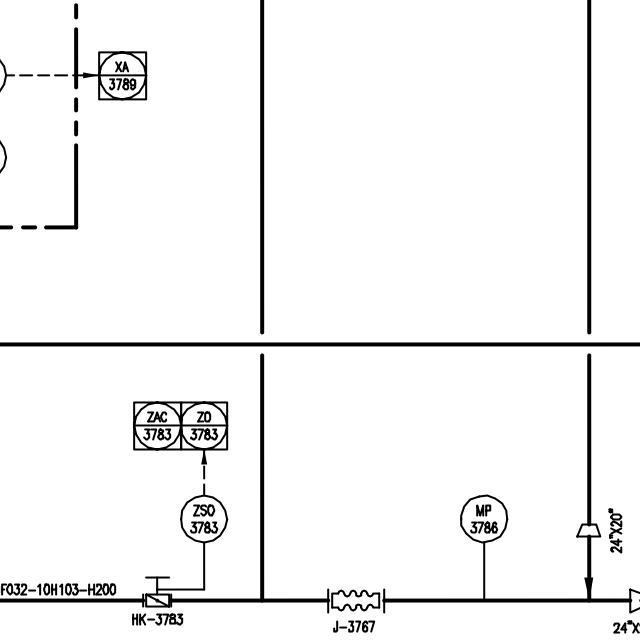BV: (140, 574, 174, 609)
EJ: (324, 586, 387, 615)
SP: (574, 519, 605, 540)
